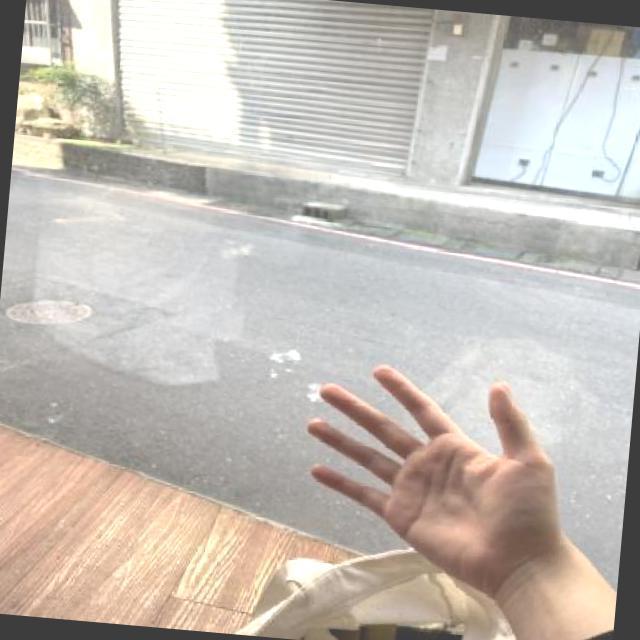hand: (283, 342, 594, 611)
